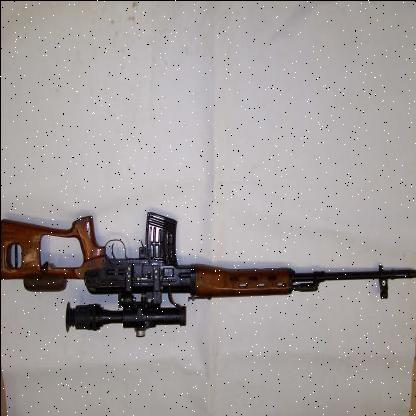rifle: (1, 189, 416, 333)
